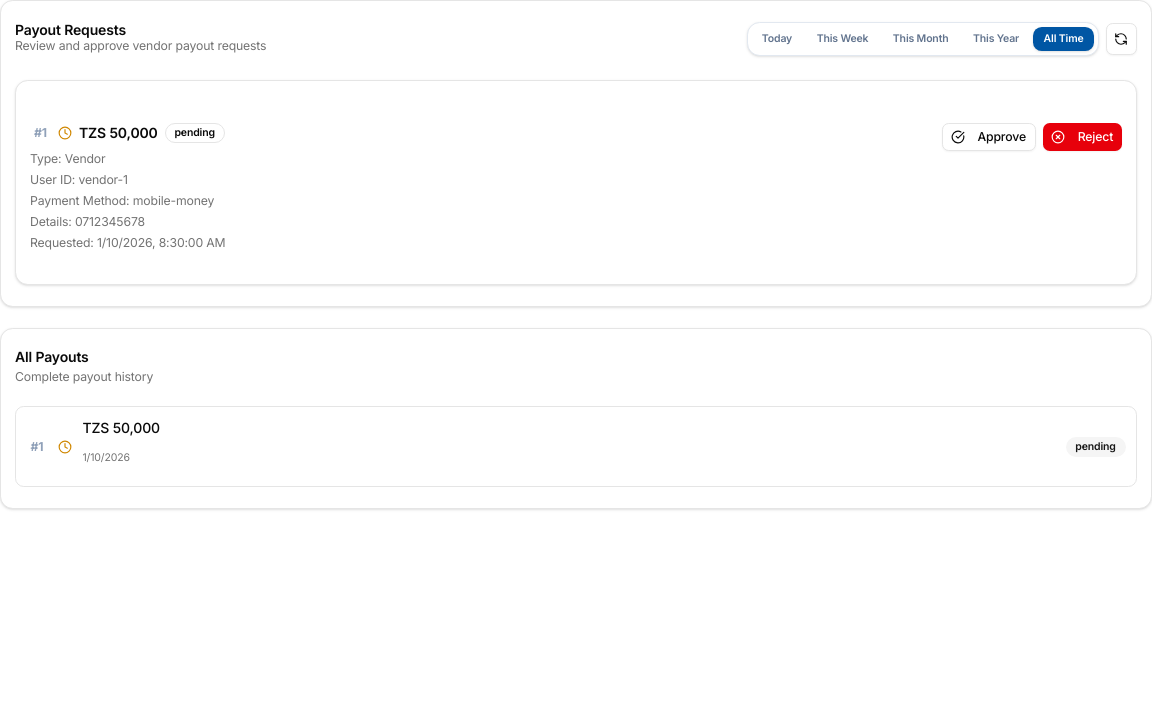
Test case: PayoutApprovalTab › approves a pending payout: posts to the approve endpoint, toasts success, and moves it out of the pending list
This screenshot has width=1152, height=720.
Click the button "Approve" at (989, 137), box left=942, top=123, right=1036, bottom=151
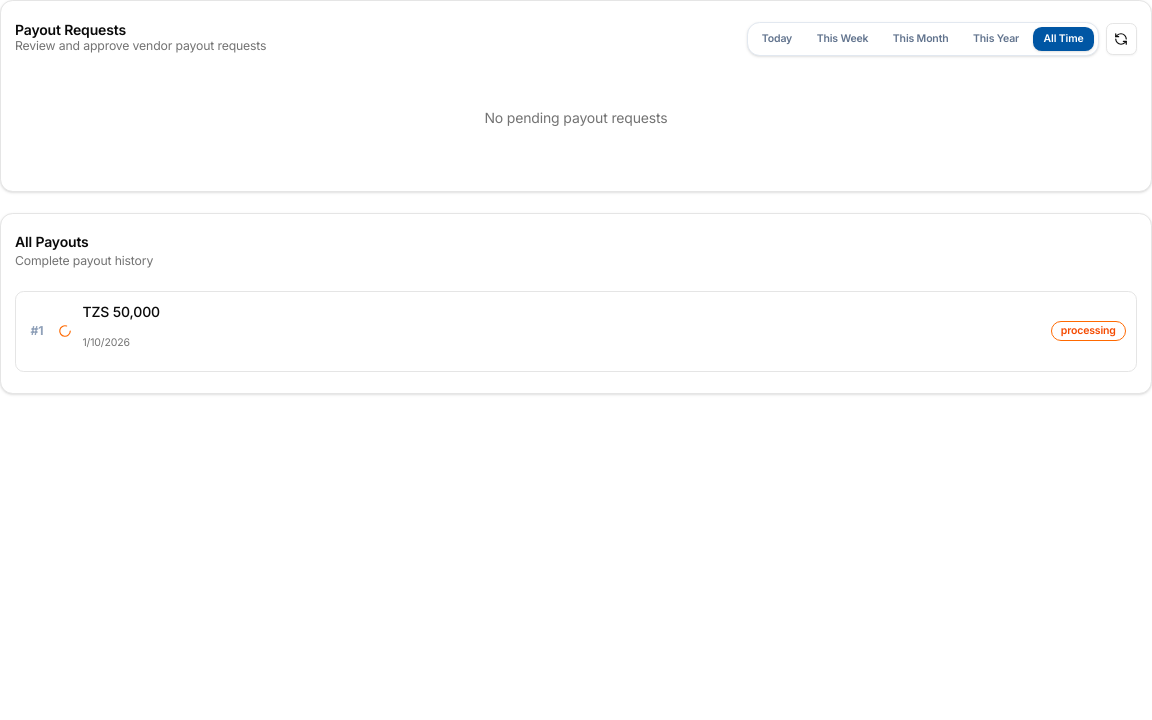
Expected: the text "No pending payout requests" is shown, left=484, top=109, right=668, bottom=126
